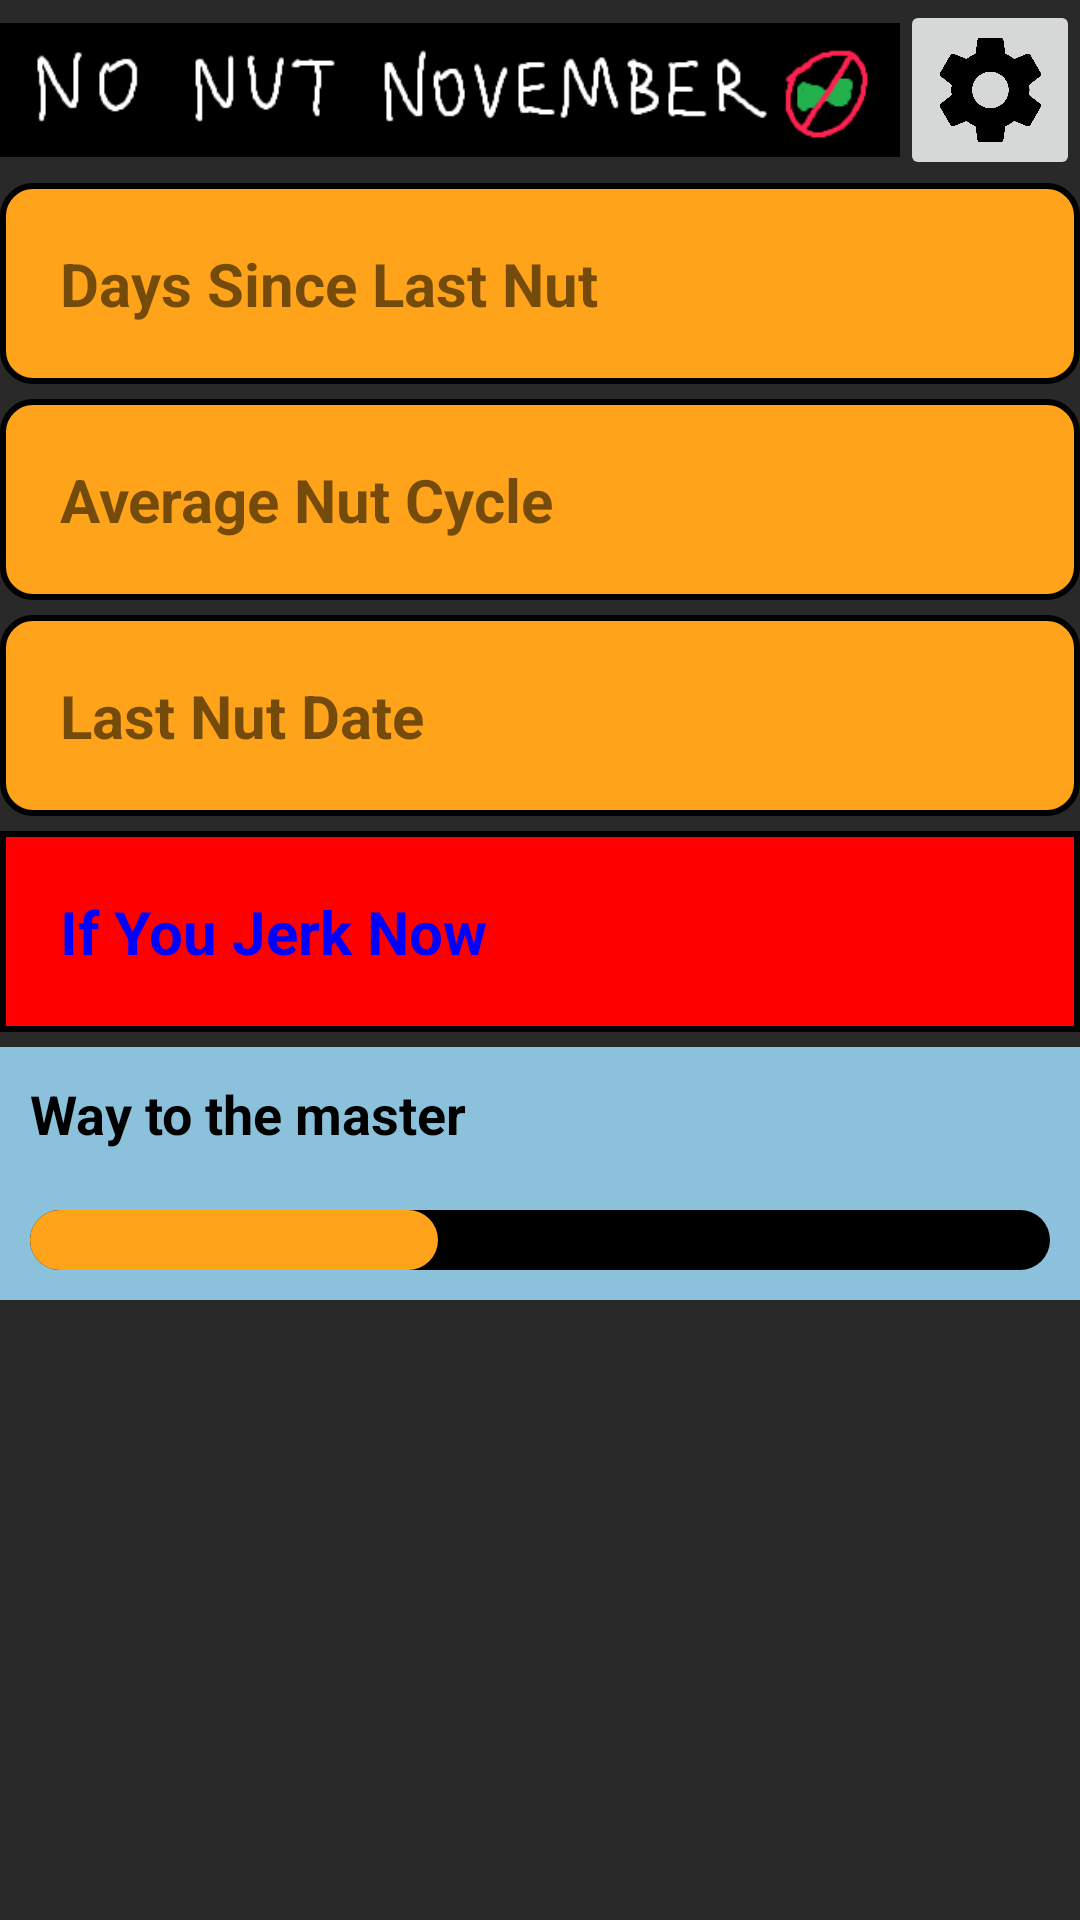

Named icons in this screenshot (1080px x 1920px) and their centers, (x=x, y=y):
settings: (x=990, y=90)
